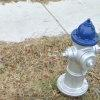a fire hydrant: (60, 19, 99, 95)
